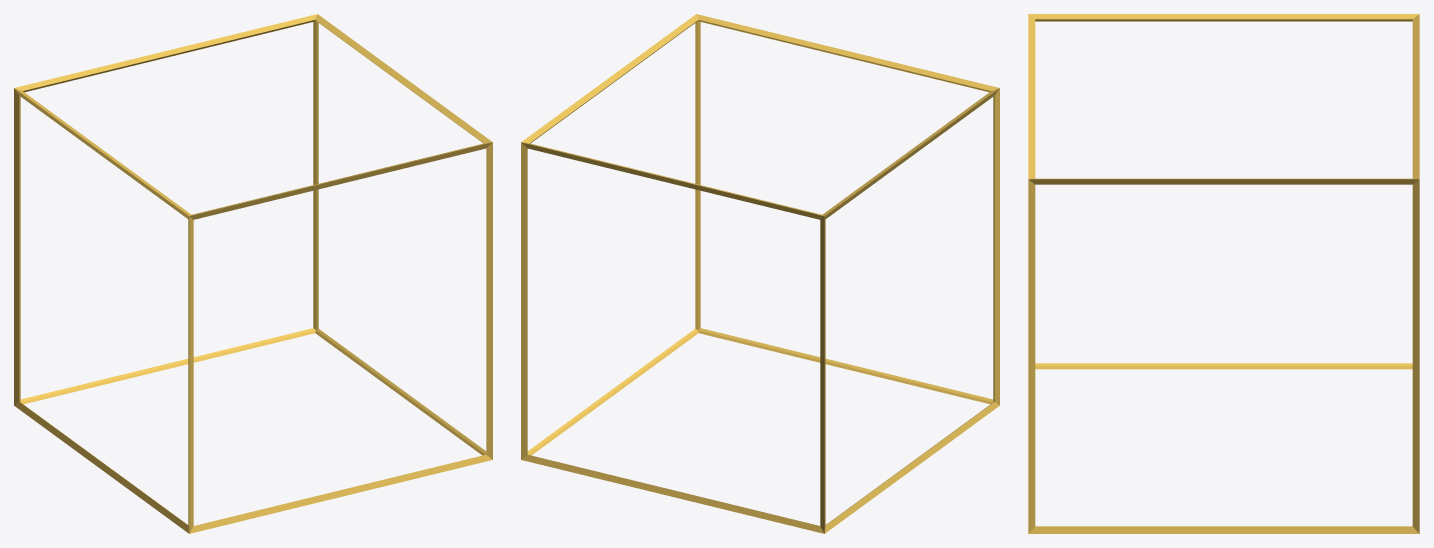
3 renders of one model, left to right at view 1: azimuth 30°, elevation 25°; view 2: azimuth 150°, elevation 25°; view 3: azimuth 270°, elevation 25°, orthographic. The views are drawn at different scales.
Parts seen in each view (by area): view 1: Cube; view 2: Cube; view 3: Cube.
Boxes of the visible parts, <box> form: Cube: <box>14,14,492,533</box>; Cube: <box>521,14,999,533</box>; Cube: <box>1028,14,1419,533</box>.
Bounding box in the file's own units: 0.8678 × 0.8678 × 0.8678.
